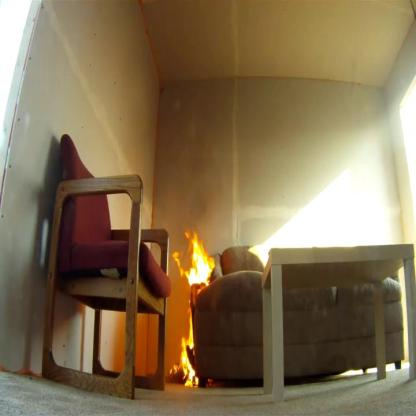fire: (171, 230, 217, 288), (178, 295, 203, 392)
